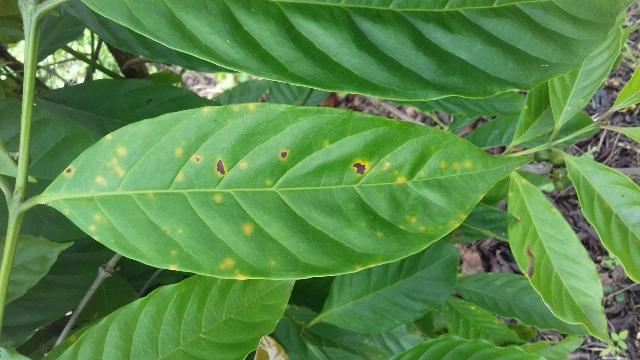rust_level_2: (46, 102, 534, 278)
